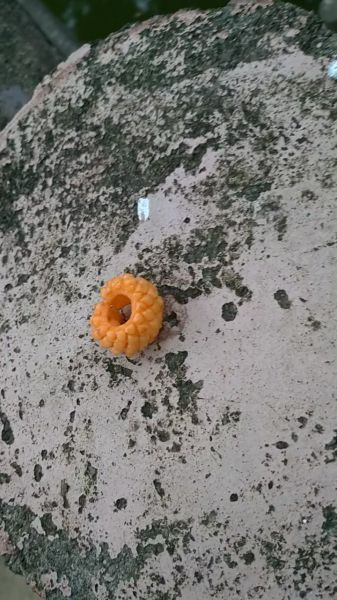eggs: (85, 272, 164, 358)
